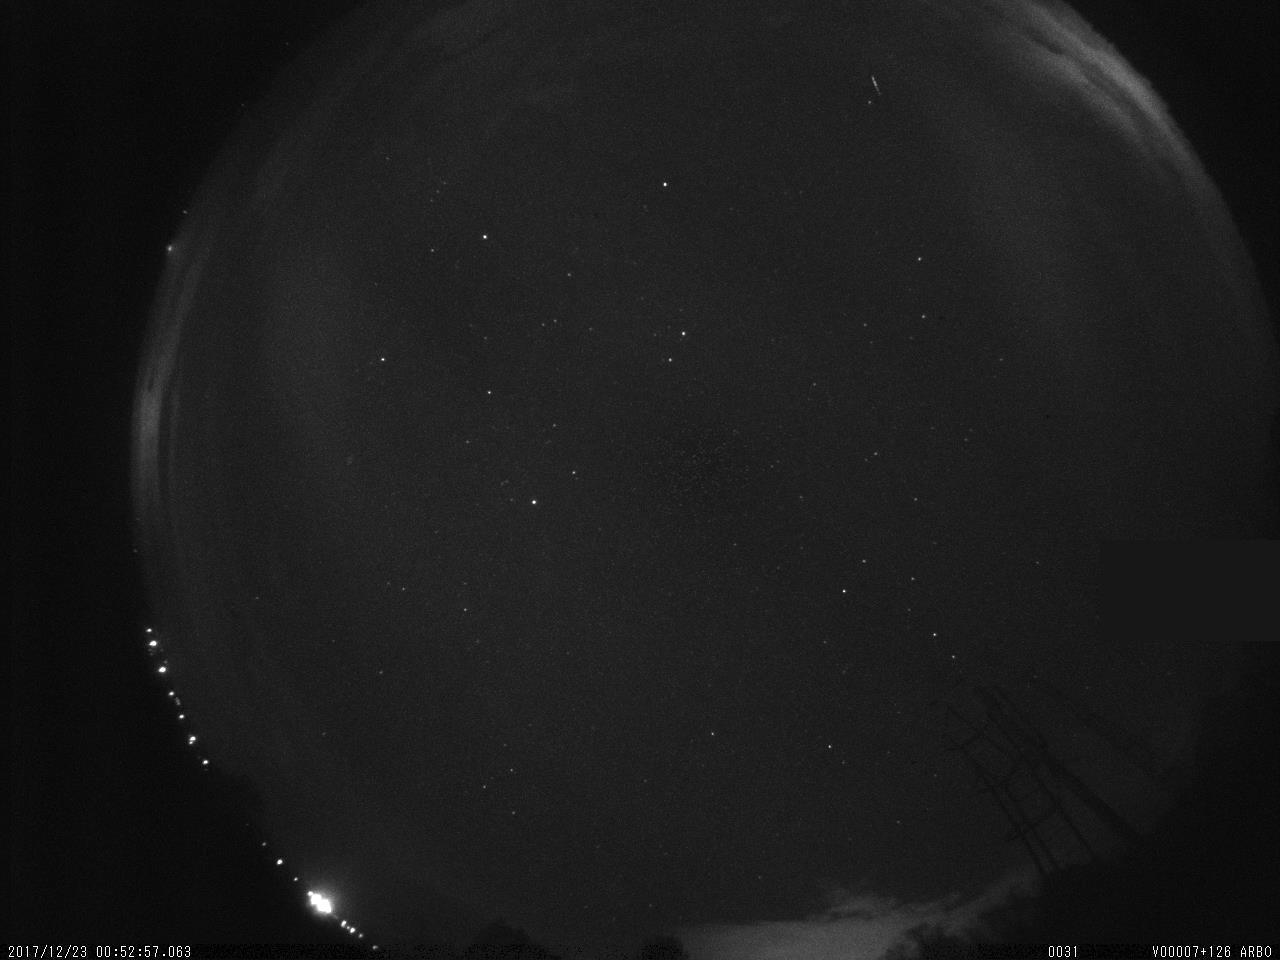Meteor: (865, 69, 884, 100)
